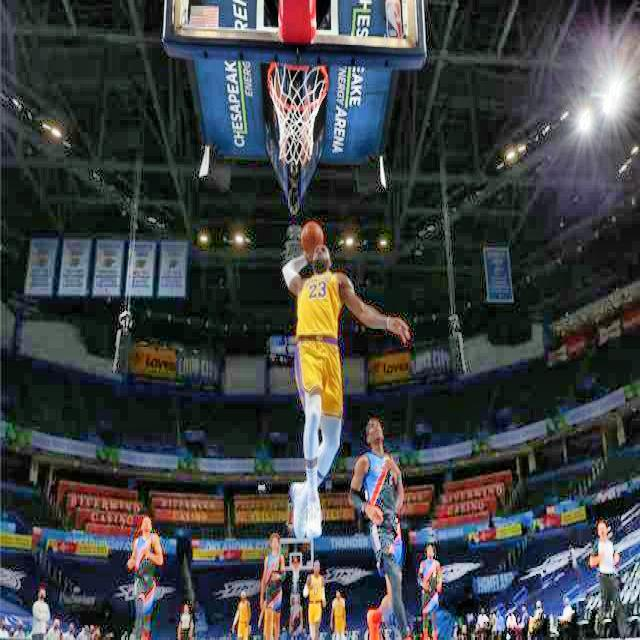rim: (266, 60, 328, 162)
